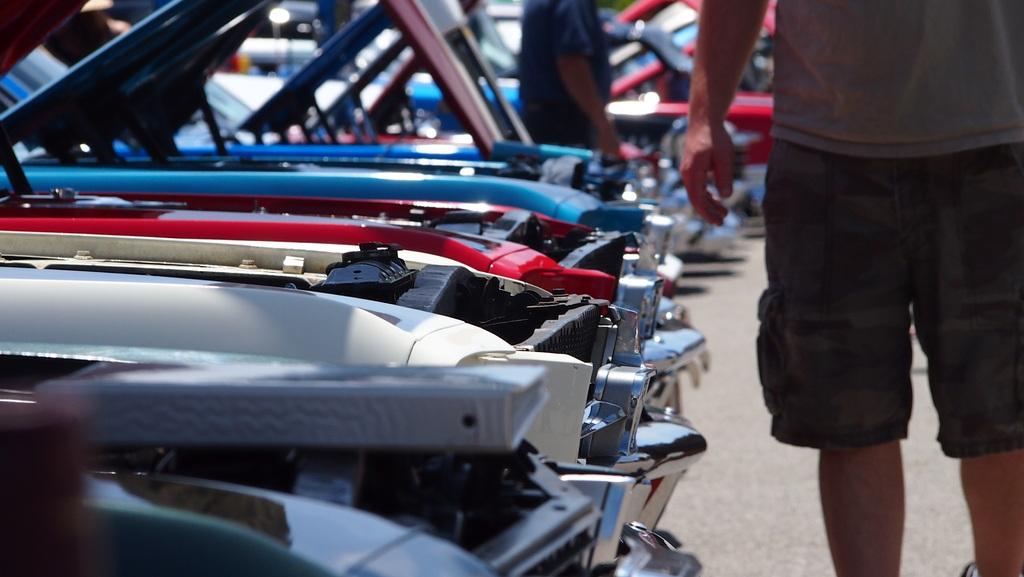Car: (0, 1, 777, 576)
